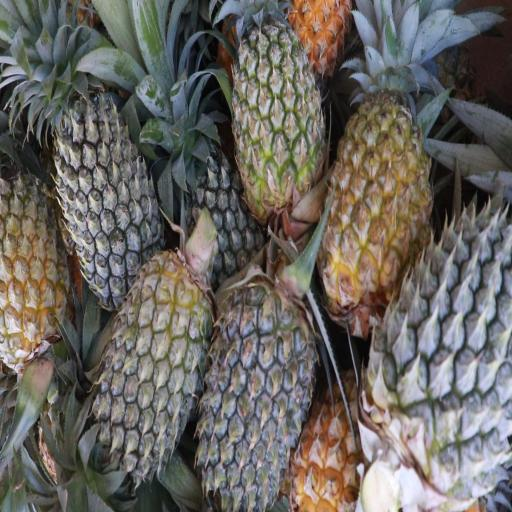------------------------------: (228, 16, 330, 214)
Pineapple - v8 v1: (323, 96, 433, 302), (0, 173, 72, 361)
